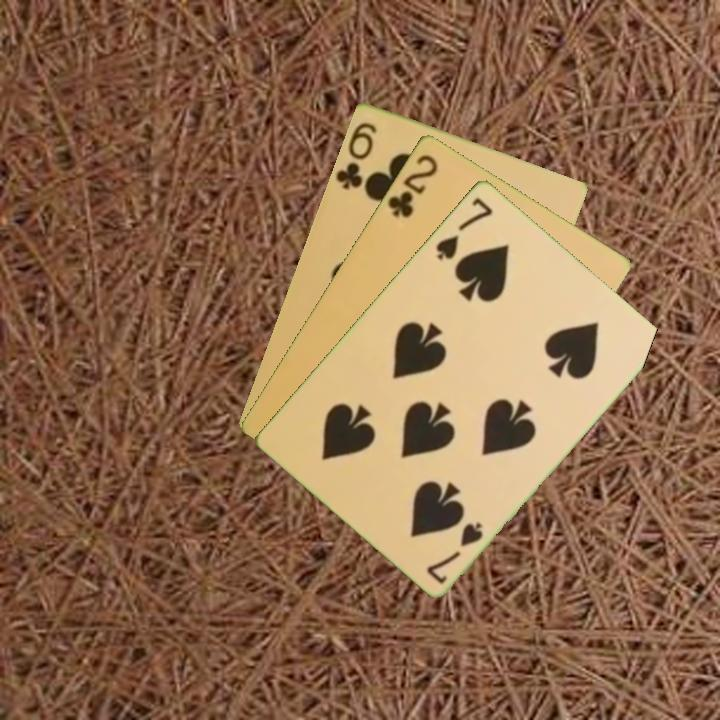2c: (383, 150, 441, 220)
6c: (332, 118, 380, 192)
7s: (432, 193, 496, 263), (423, 517, 486, 587)
